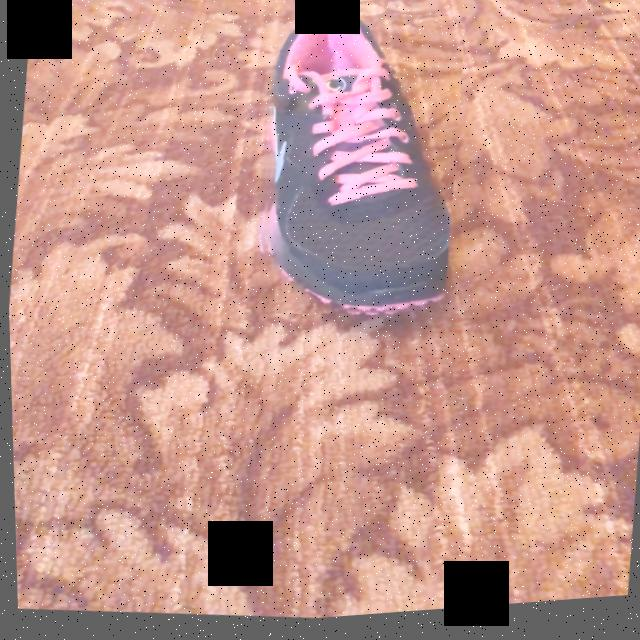shoe: (262, 17, 449, 319)
